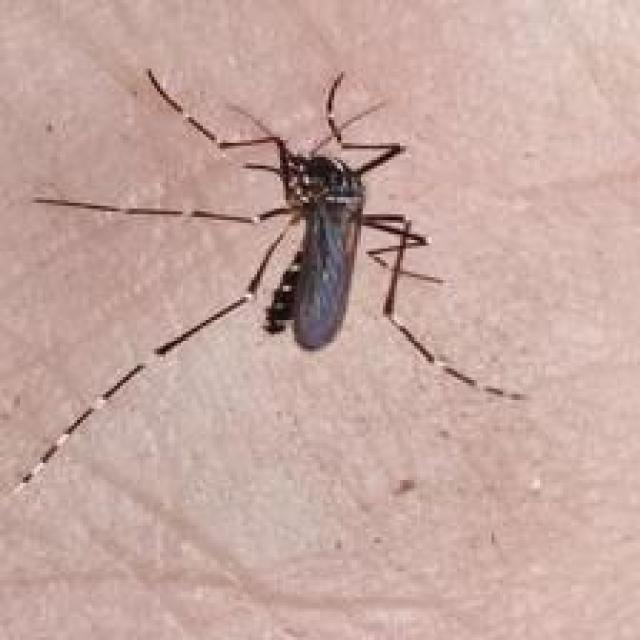Aedes albopictus: (14, 64, 529, 493)
